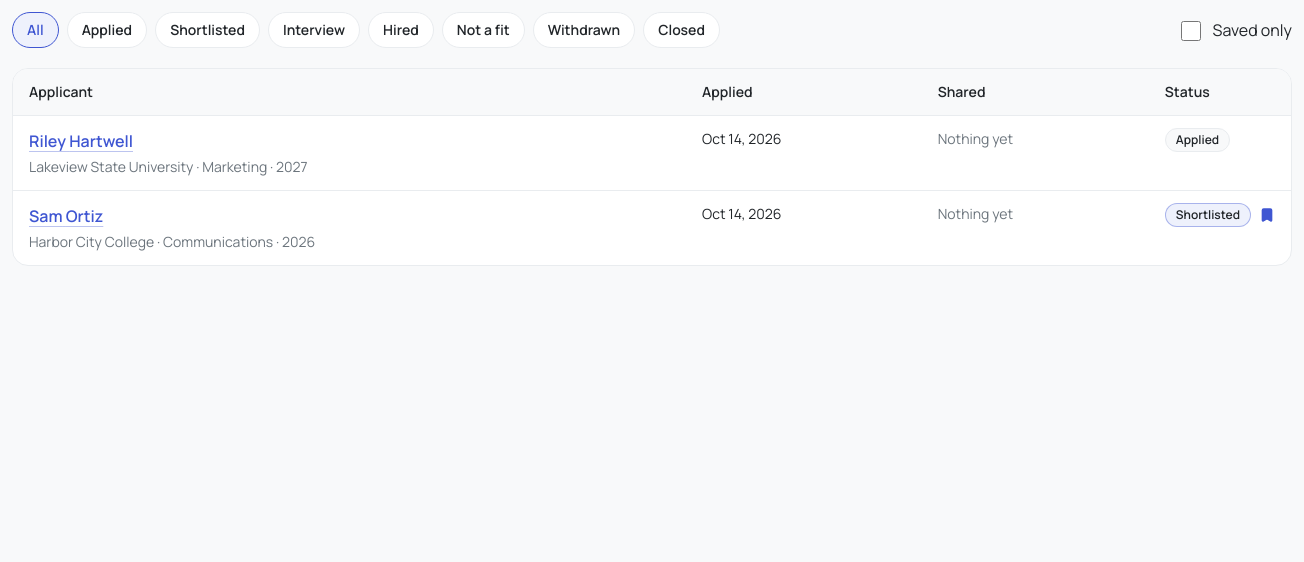
Test: ApplicantTable › opens an applicant's details
Click the button "Riley Hartwell" at point(81, 141), box [29,128,133,154]
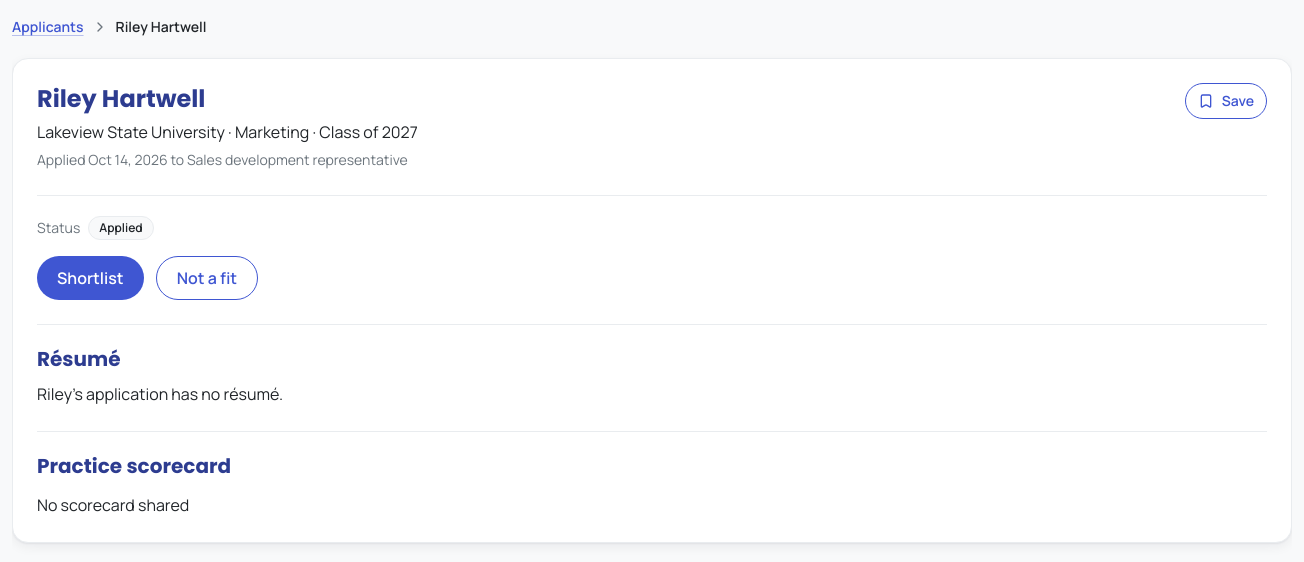
Expected: the heading "Riley Hartwell" is shown, [37,82,205,115]
